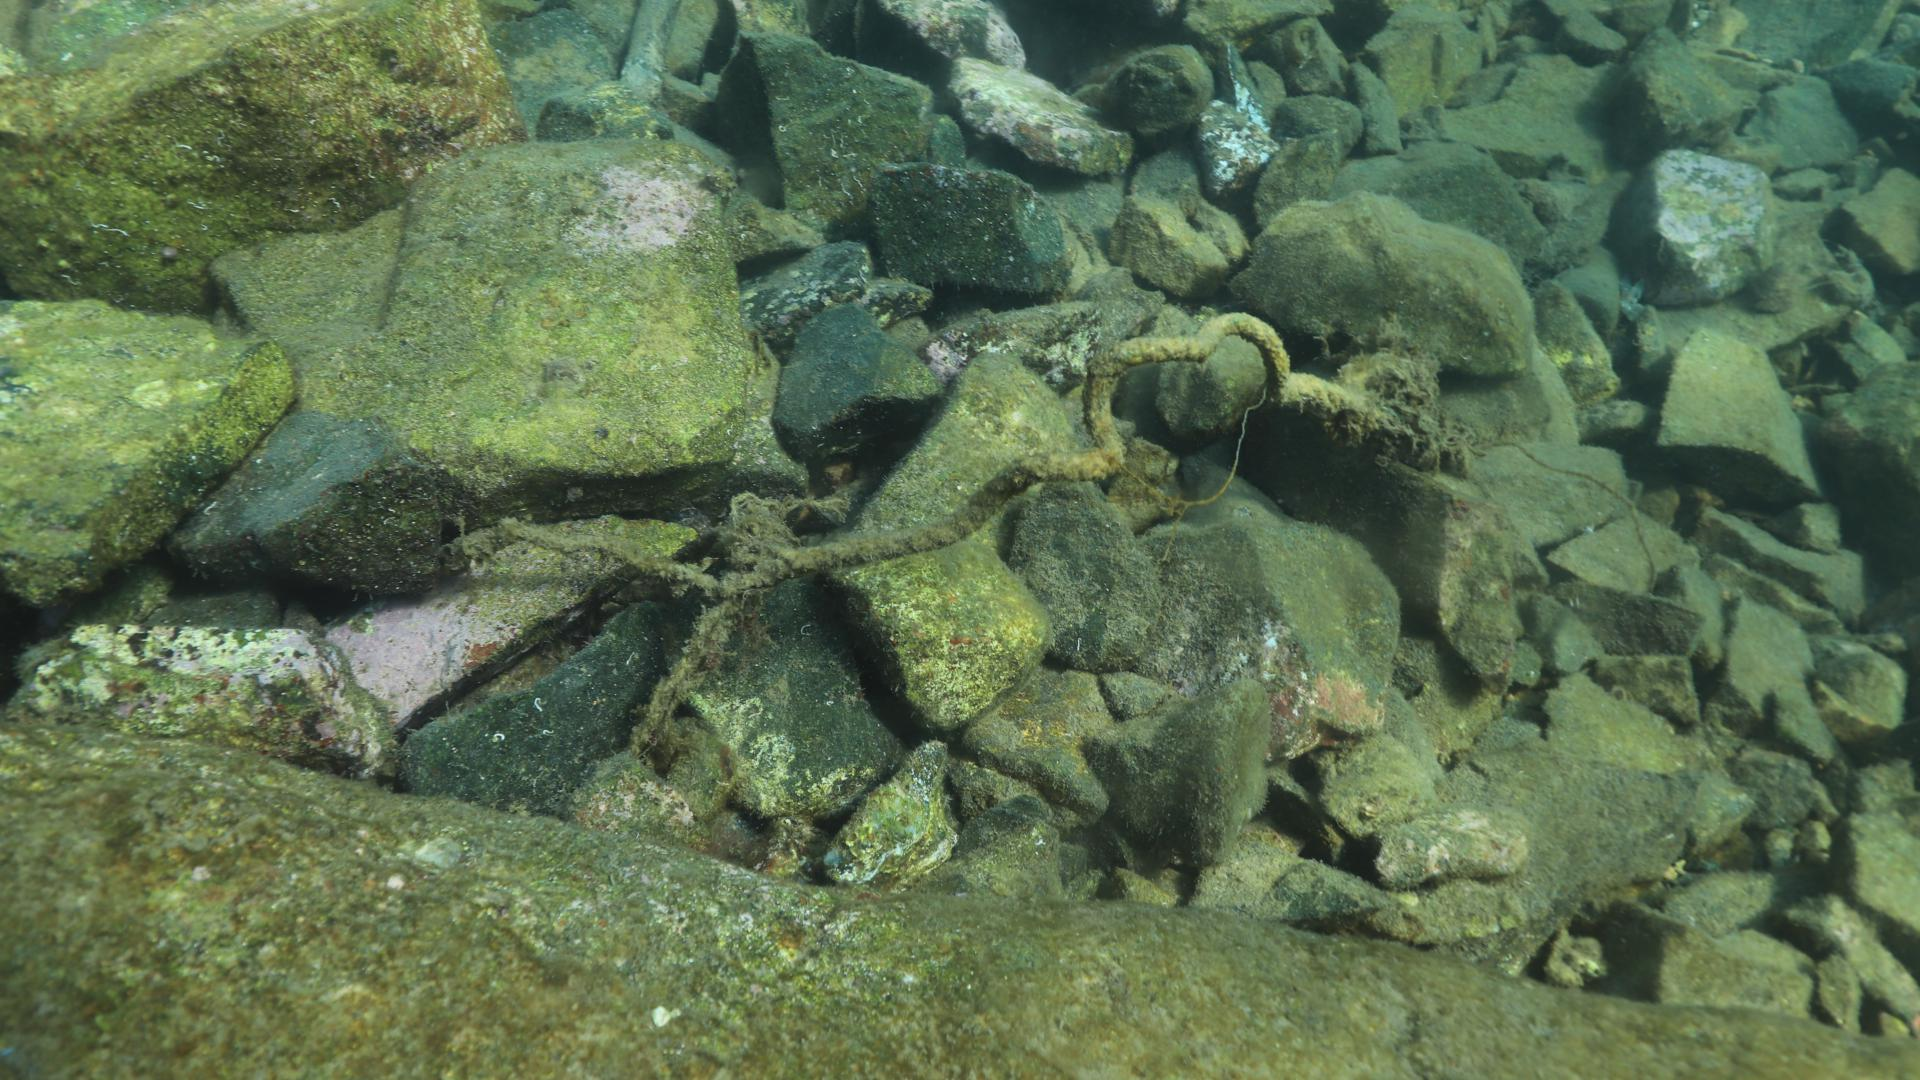rope: (757, 309, 1346, 585)
